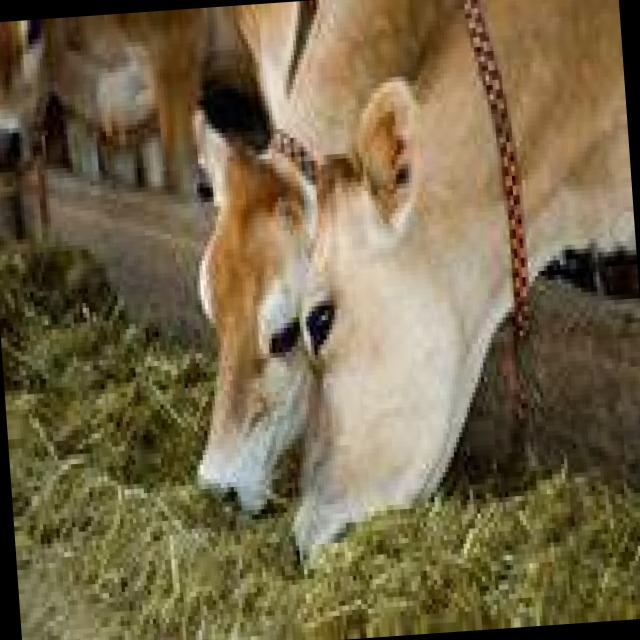cow: (281, 0, 640, 640), (138, 93, 318, 570)
